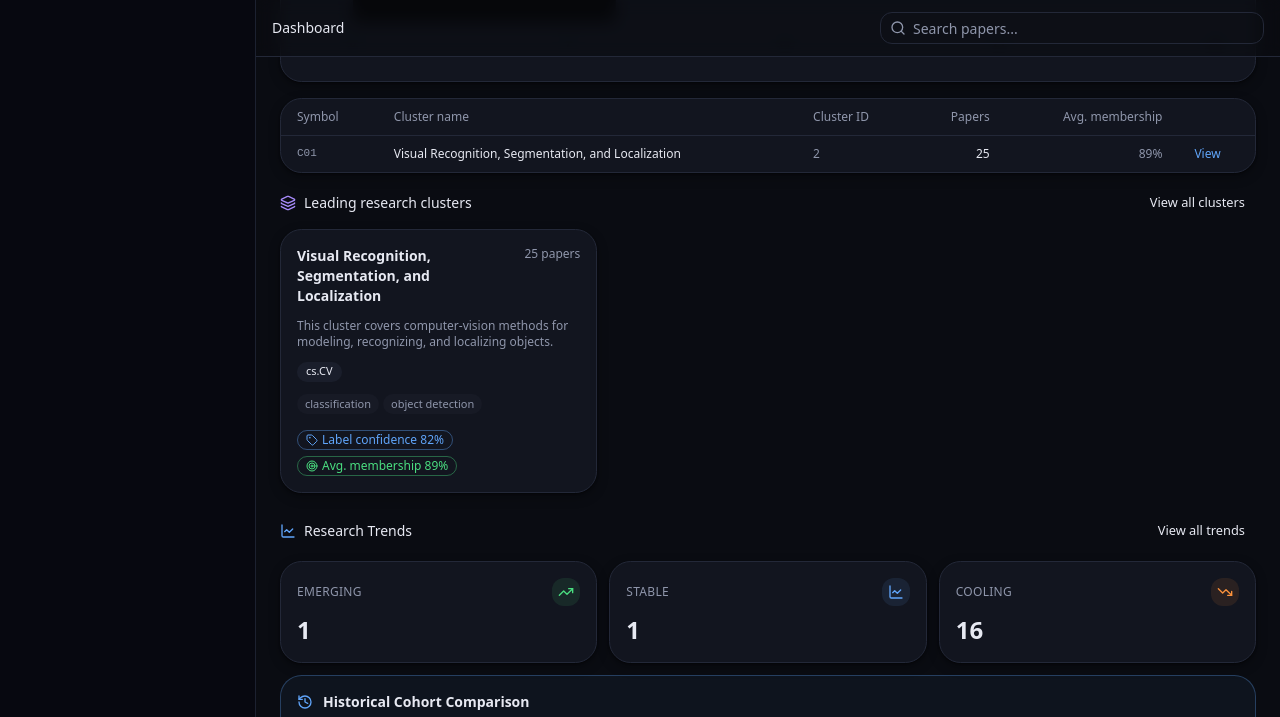
Test: DashboardPage › a leading cluster card links to its real Cluster Detail page
The image size is (1280, 717).
(page scrolled)
Click the link "Visual Recognition, Segmentation, and Localization": (364, 255) [280,228,597,493]
(page scrolled)
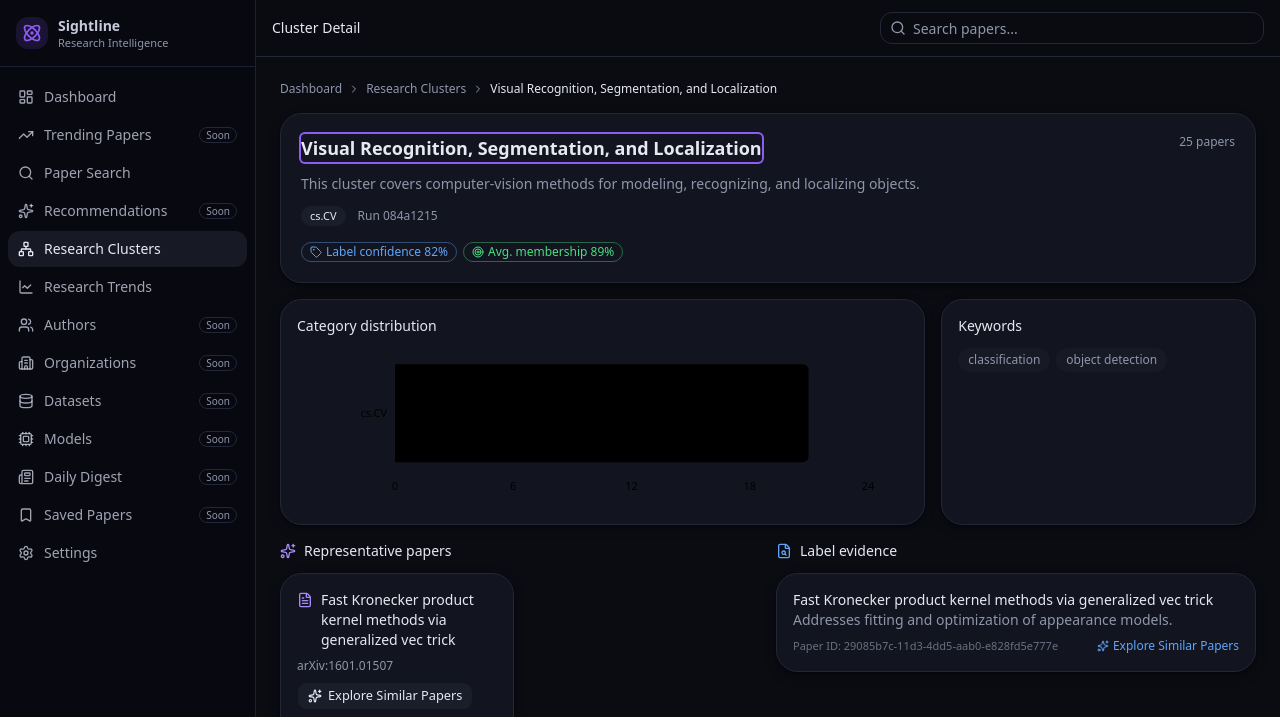
Expected: the heading "Cluster Detail" is shown, [272,18,360,38]
